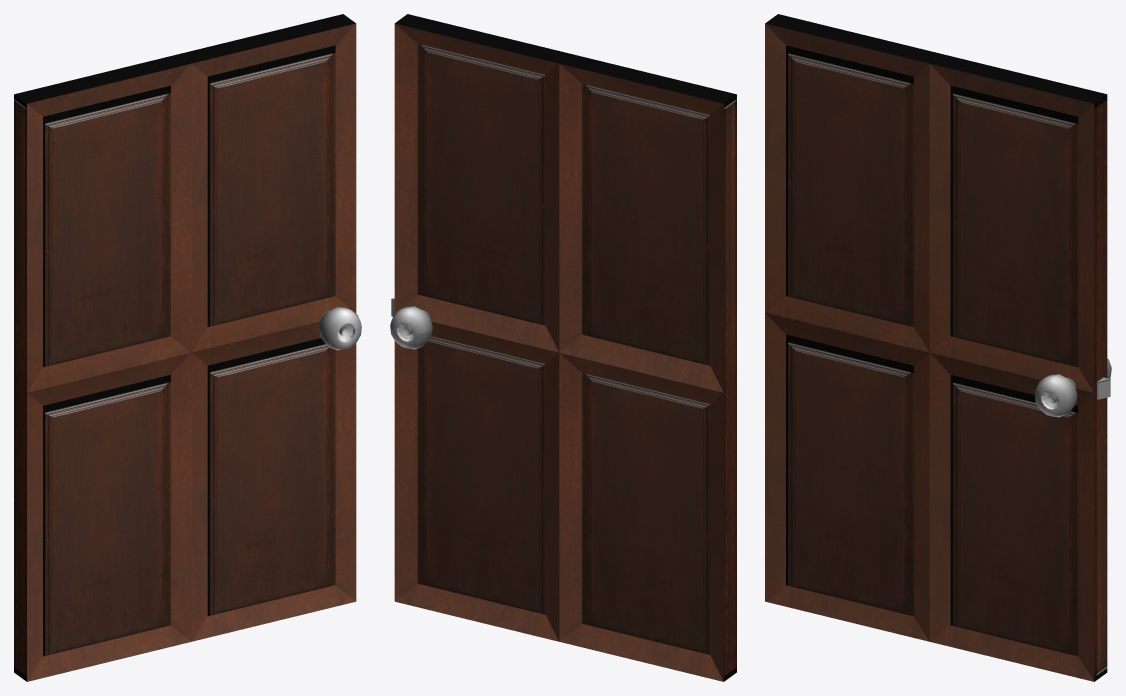
Rendered from Door.FBX.
3 views of the same model, side by side, from view 1: azimuth 30°, elevation 25°; view 2: azimuth 150°, elevation 25°; view 3: azimuth 330°, elevation 25° (orthographic).
Visible parts, largest first — view 1: Box001; view 2: Box001; view 3: Box001.
Part boxes in pixels (x1,y1,x2,y2): Box001: [14, 14, 361, 681]; Box001: [390, 14, 736, 681]; Box001: [765, 14, 1111, 681].
Size of the model in its own units: 101 by 166 by 24.05.
